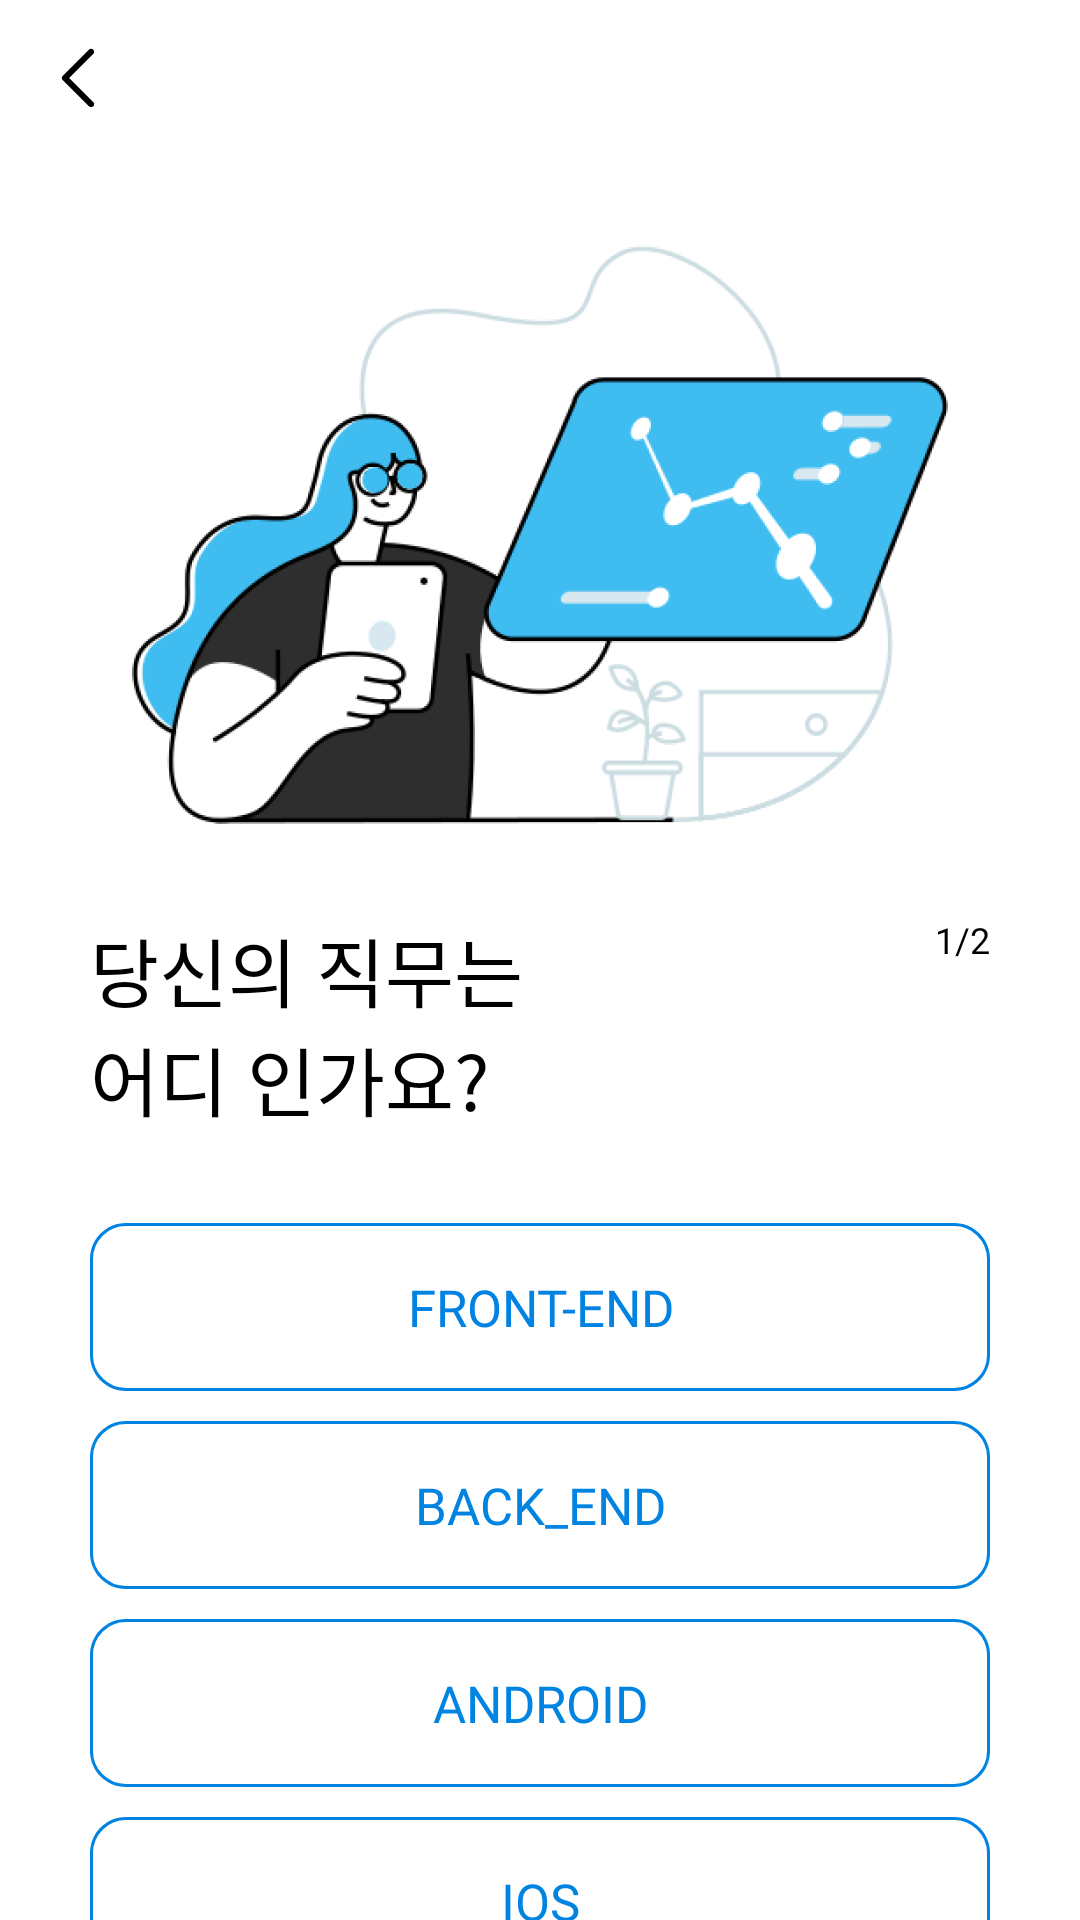

Where to tap for icons on this 1080px x 1920px app screen, as point (x, y):
back: point (78, 78)
